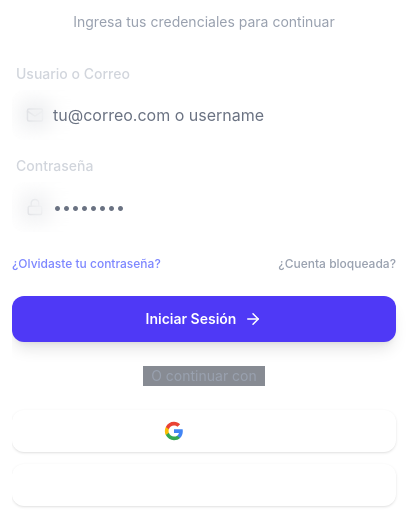
Test: LoginForm › disables submit button while loading
Type "admin" into the field with placeholder "tu@correo.com o username" at (204,115), box [12,90,396,140]
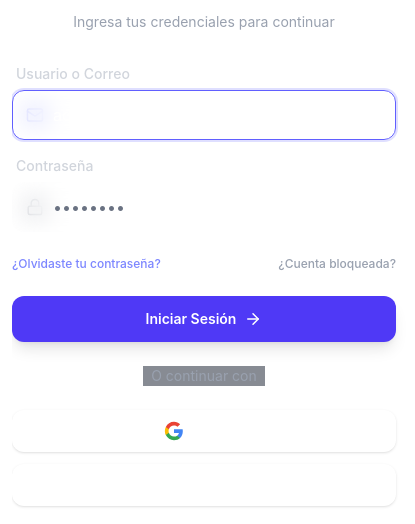
Type "password" into the password field with placeholder "••••••••" at (204,207), box [12,182,396,232]
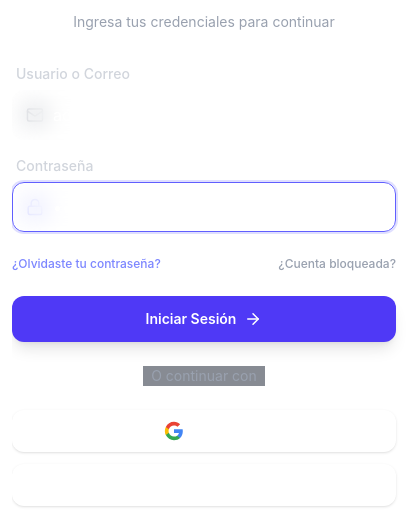
Click the button "Iniciar Sesión" at (204,319), box [12,296,396,342]
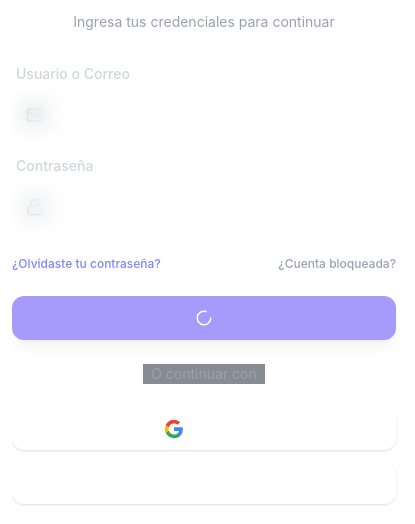
expect the button named "Iniciar Sesión" is disabled: met, box [12,296,396,340]
